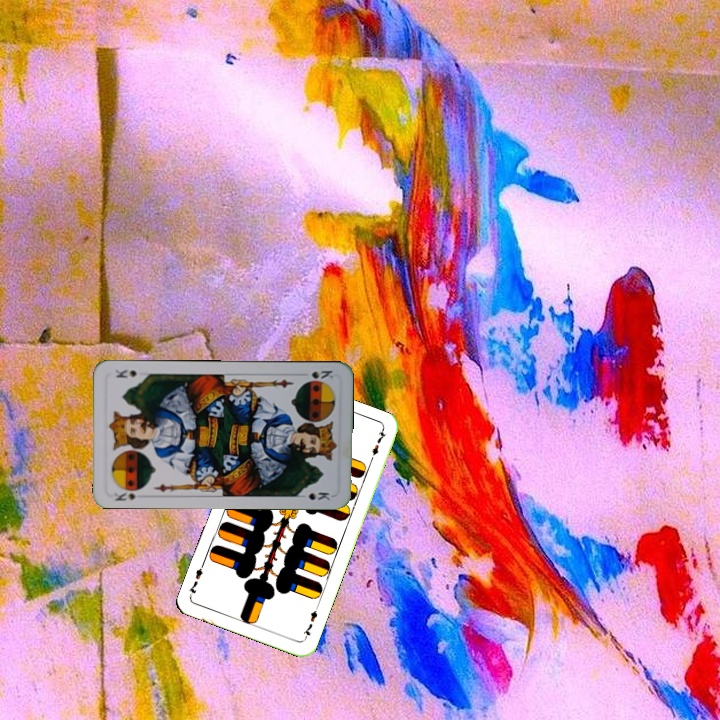E7: (299, 603, 320, 642)
SK: (110, 488, 148, 504), (307, 366, 336, 381)
